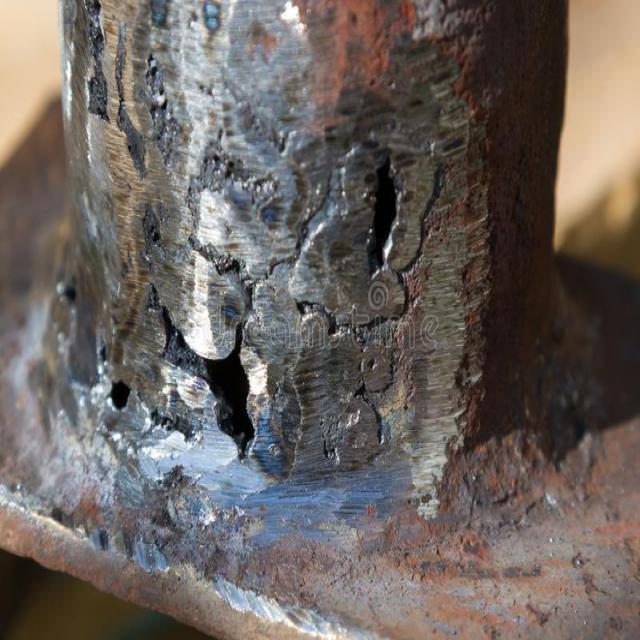Bad Welding: (58, 0, 432, 514)
Porosity: (152, 284, 262, 466), (355, 132, 407, 275), (99, 376, 136, 403)
